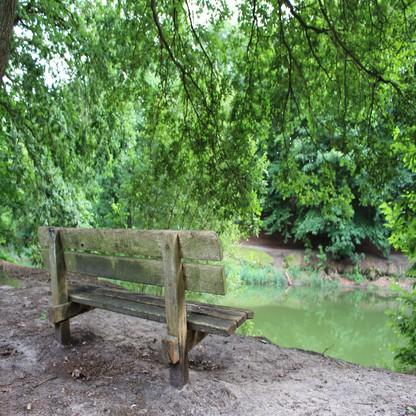obstacle: (25, 209, 257, 378)
